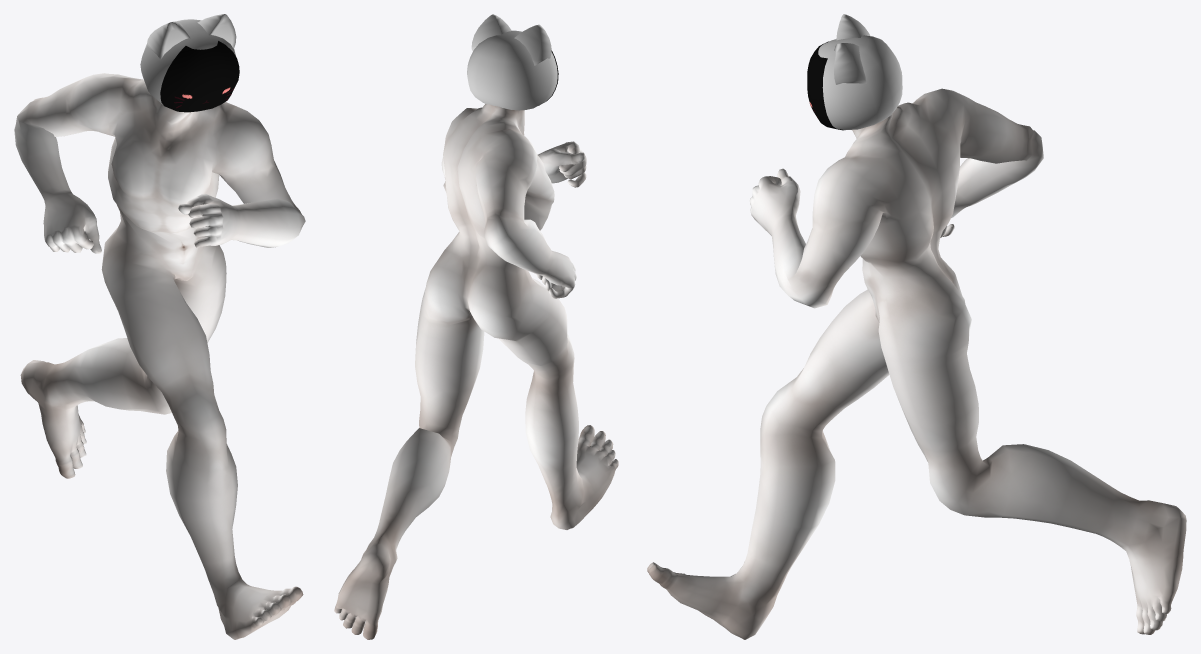
3 renders of one model, left to right at view 1: azimuth 30°, elevation 25°; view 2: azimuth 150°, elevation 25°; view 3: azimuth 270°, elevation 25°, orthographic. The views are drawn at different scales.
Visible parts, largest first — view 1: Muscle_Body, ______?001, Cat_Head; view 2: Muscle_Body, Cat_Head; view 3: Muscle_Body, Cat_Head, ______?001.
Boxes of the visible parts, x1,y1,x2,y2 form: Muscle_Body: (14, 73, 305, 639); ______?001: (160, 41, 239, 112); Cat_Head: (140, 14, 236, 104); Muscle_Body: (334, 104, 618, 639); Cat_Head: (467, 14, 557, 110); Muscle_Body: (647, 88, 1186, 639); Cat_Head: (818, 14, 902, 130); ______?001: (807, 41, 843, 130).
Size of the model in its own units: 9.47 by 27.18 by 21.61.
